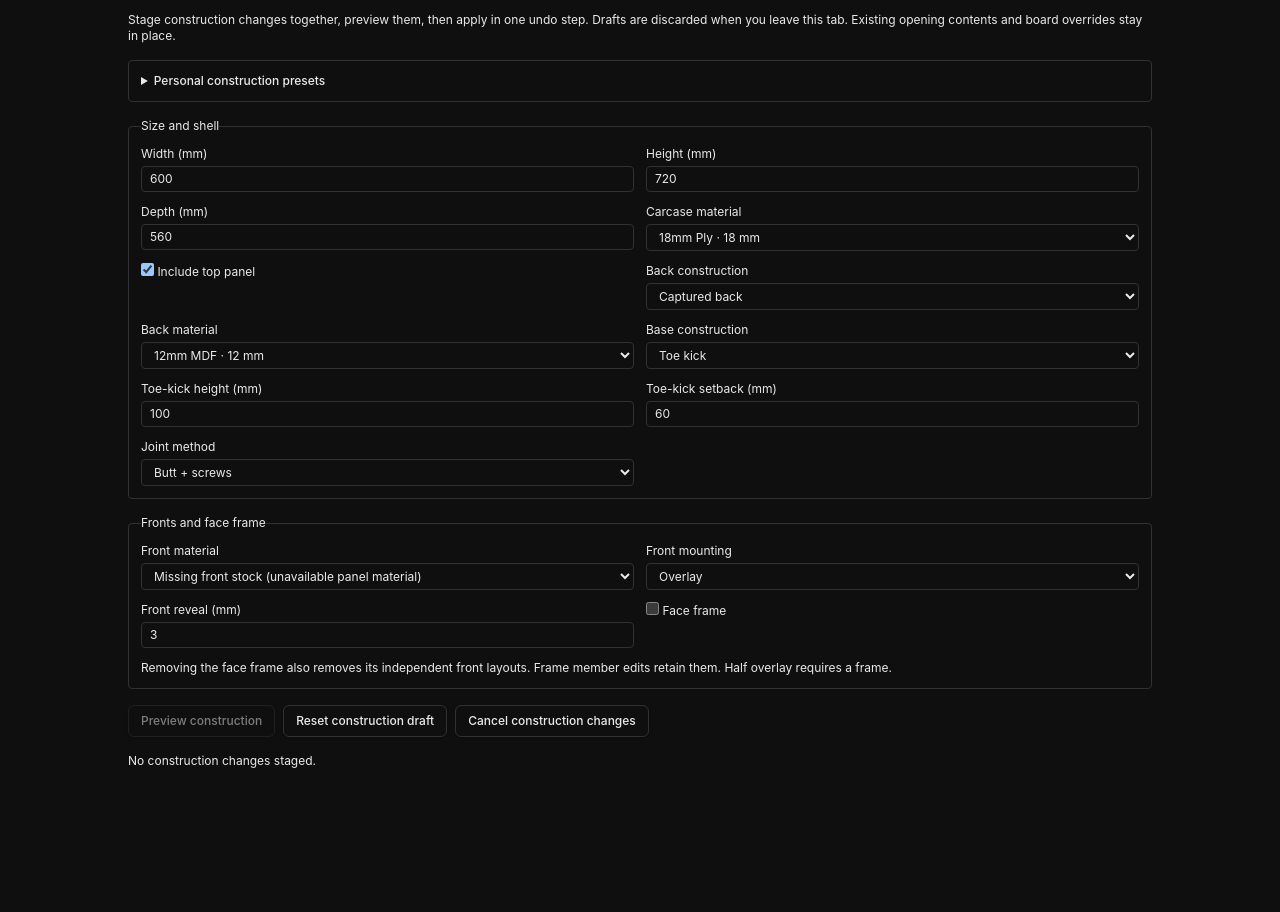
Scenario: offers panel materials, preserves missing names and omits edge stock
Replace the text in the number field named "Draft Width" with "700" at (388, 179), box [141,166,634,192]
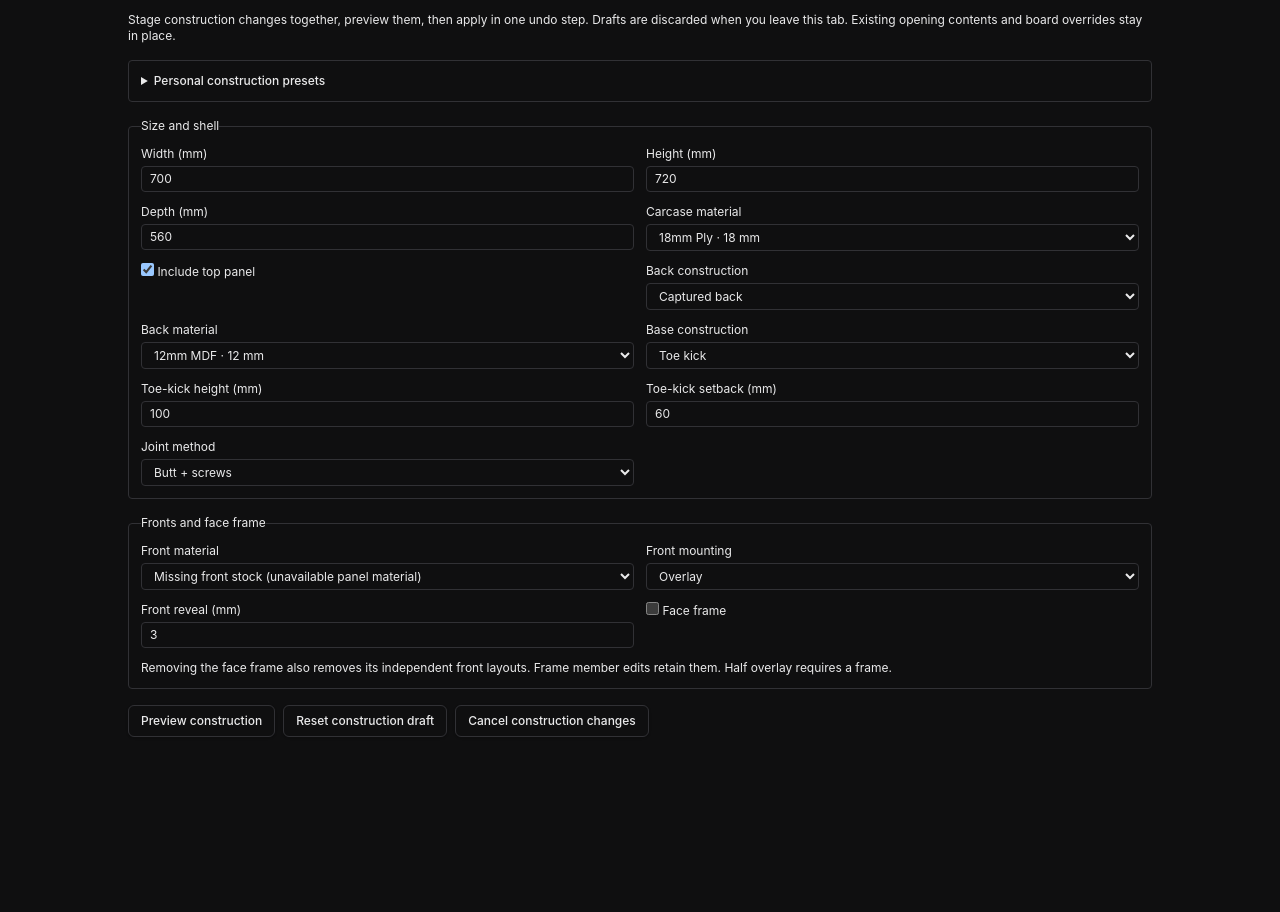
Click the button "Preview construction".
click(202, 721)  # box [128,705,275,737]
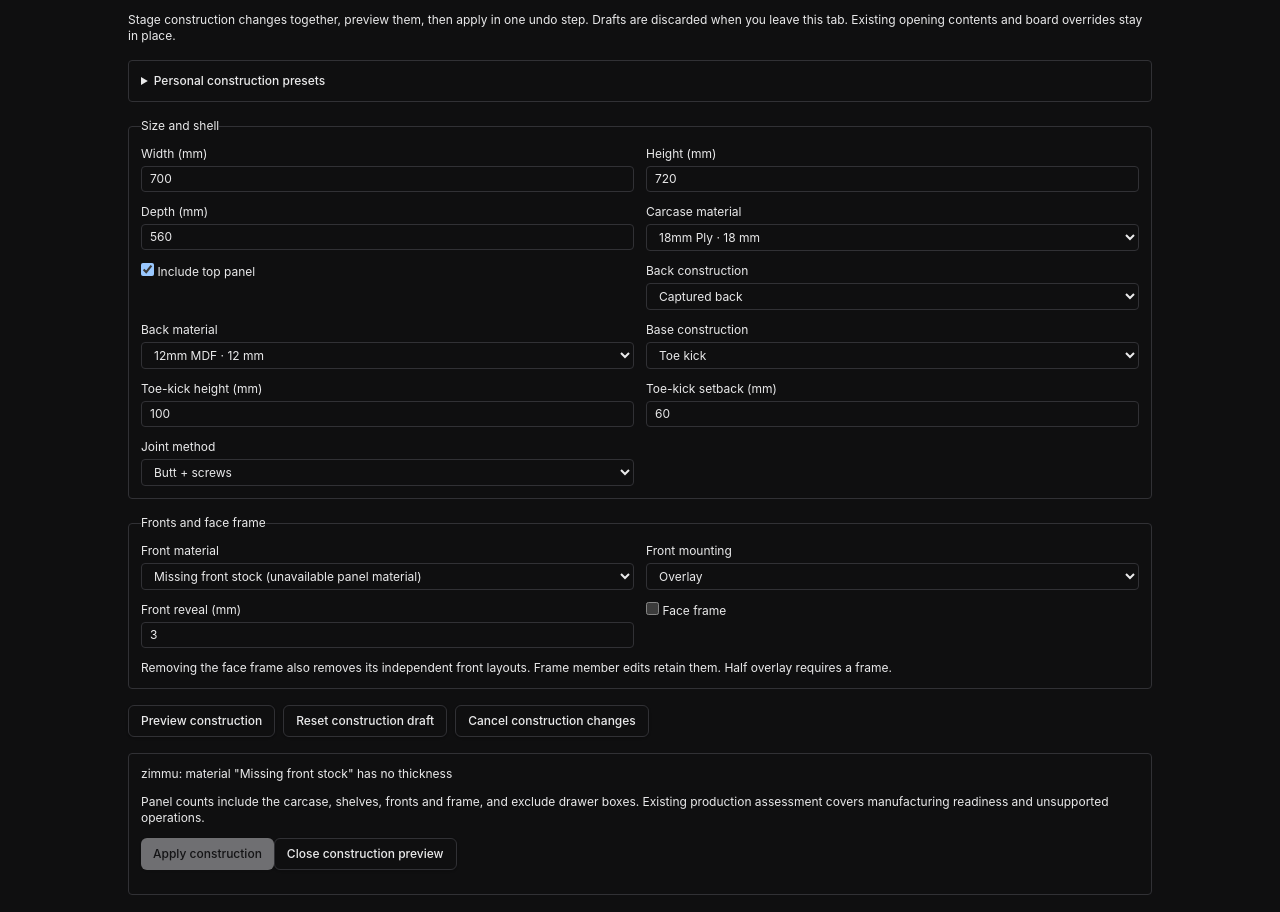
Expected: the button "Apply construction" is disabled, [141,838,274,870]
